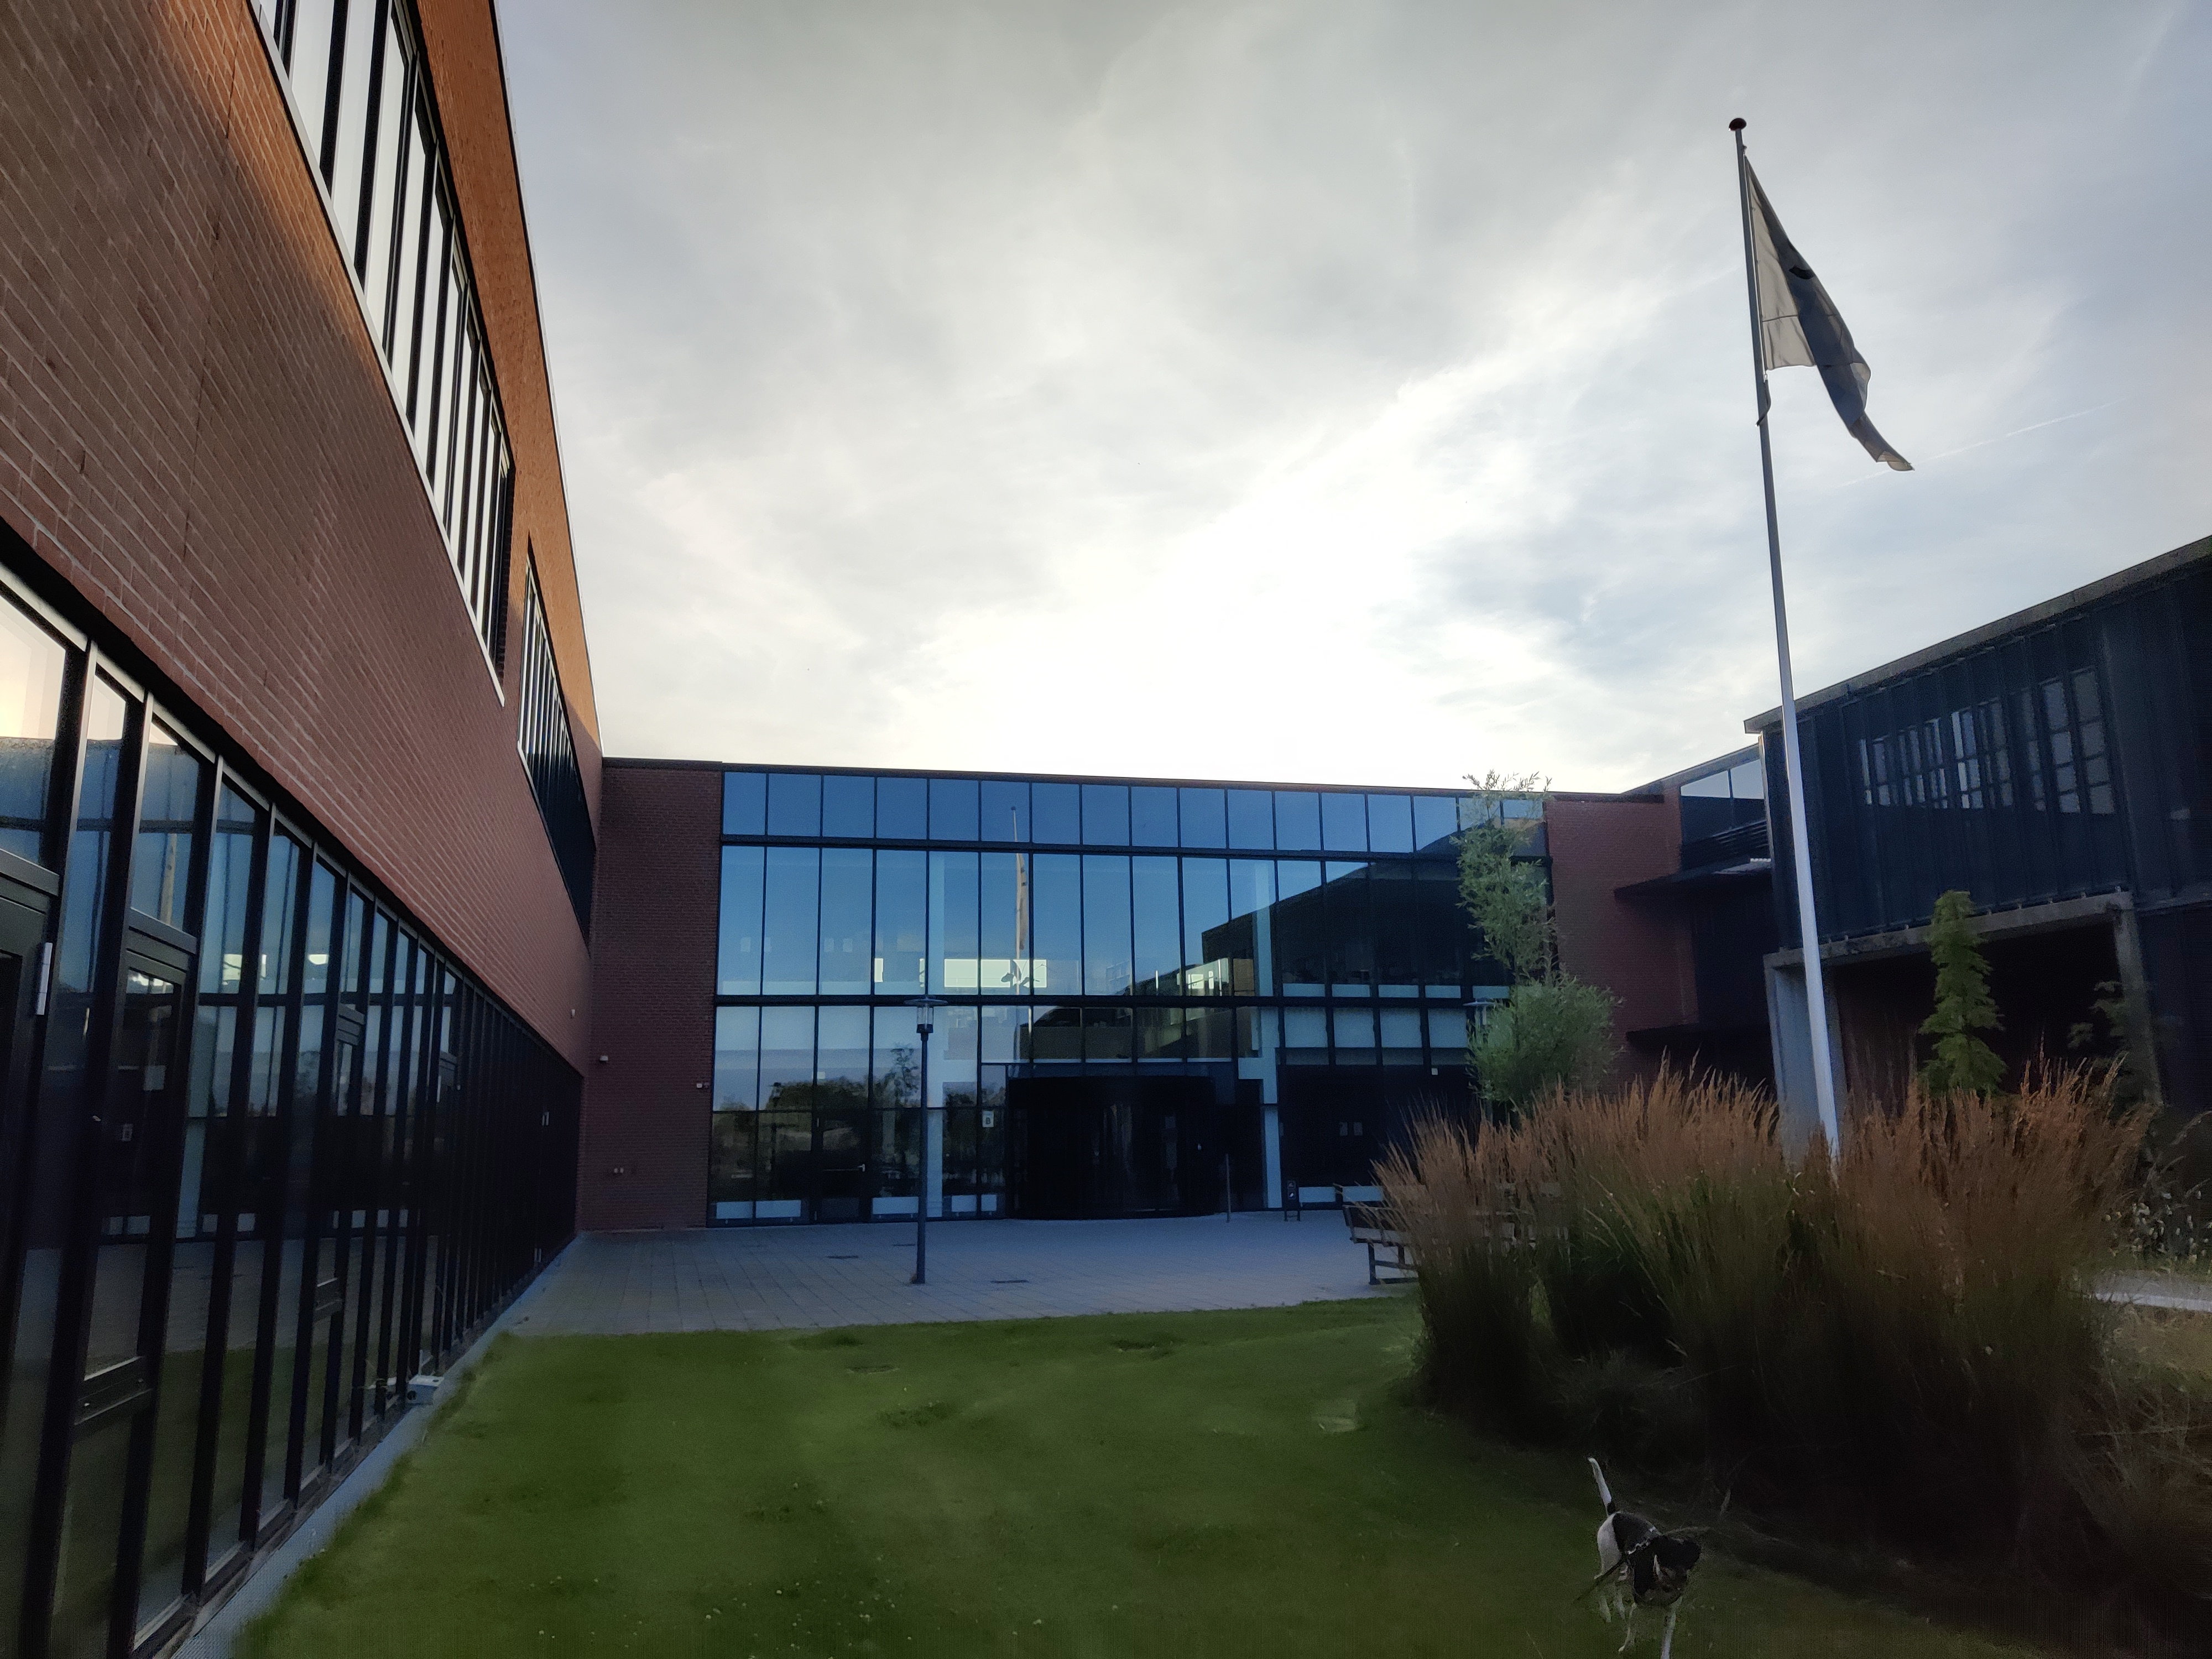Dog: (1583, 1453, 1702, 1659)
